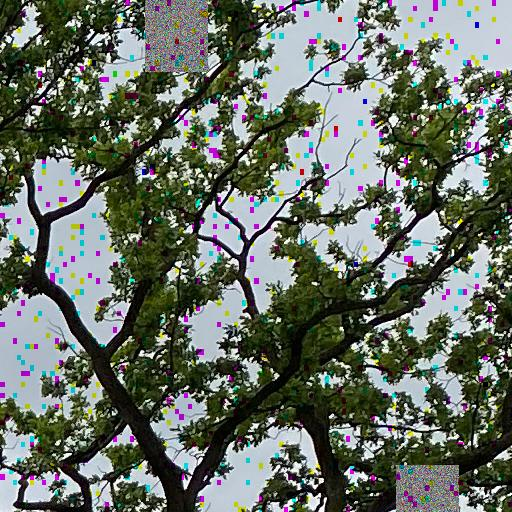tree: (1, 1, 512, 512)
